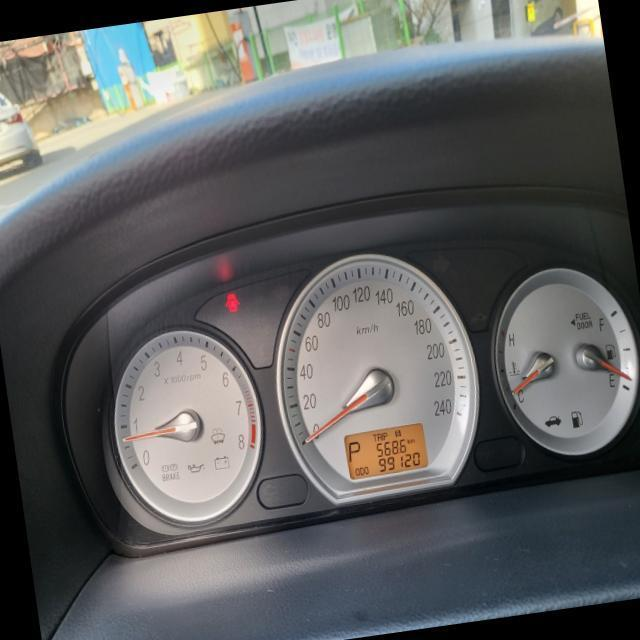Doors: (222, 290, 240, 314)
